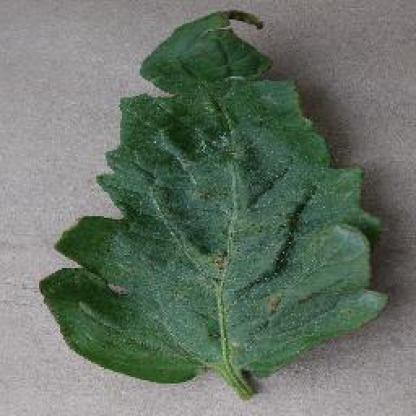bad leaf: (80, 22, 376, 405)
